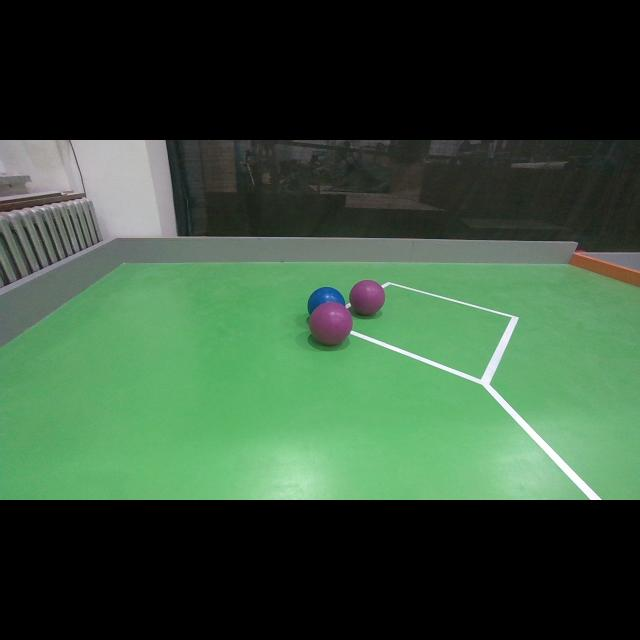B: (307, 286, 345, 316)
P: (309, 303, 353, 345), (349, 280, 385, 316)
